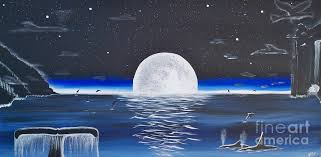moon: (132, 50, 198, 95)
